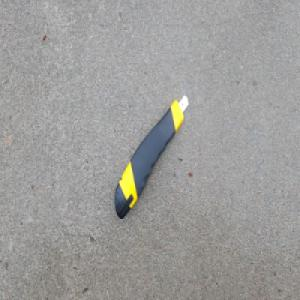Cutter: (111, 93, 187, 221)
